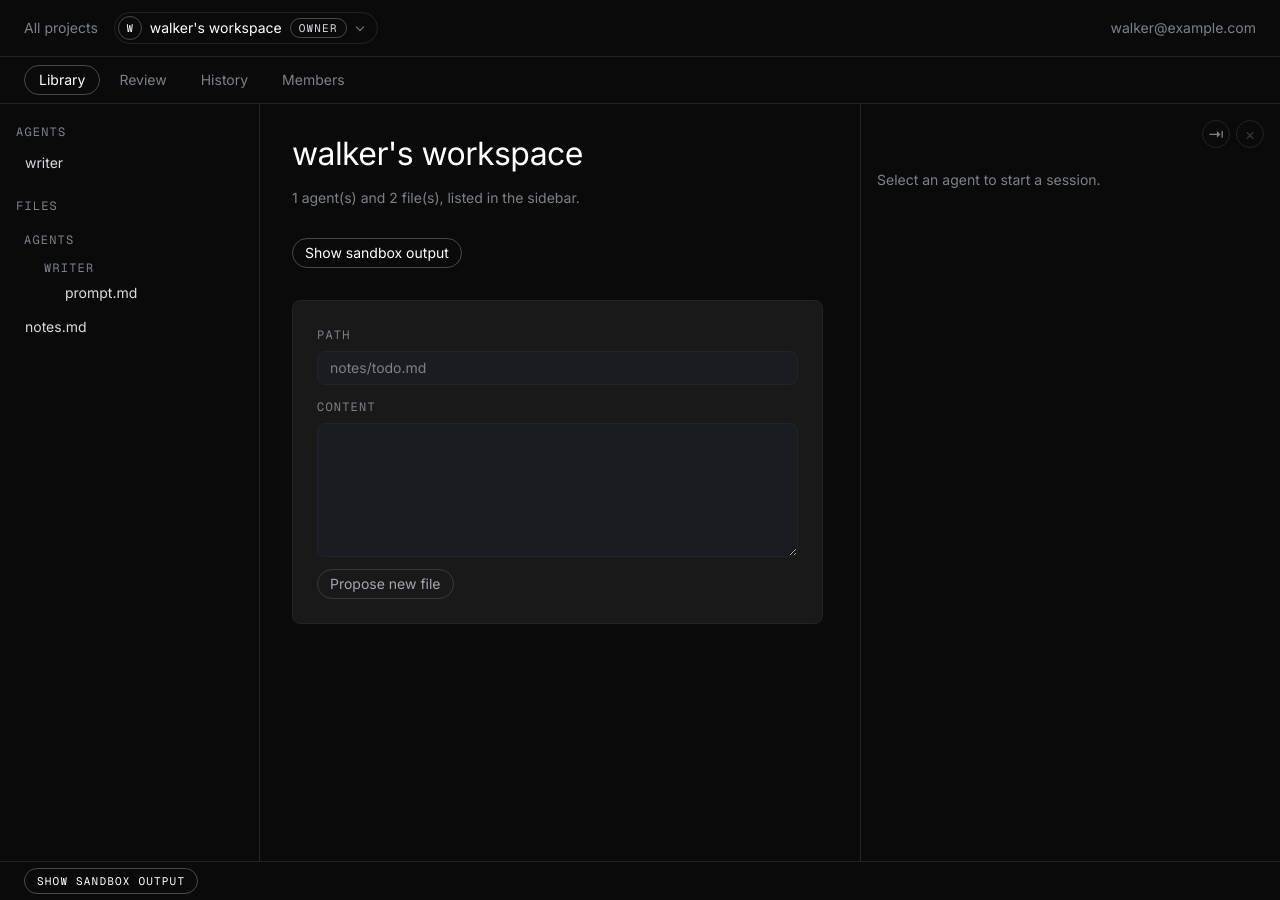
Test case: reading a file in the library › shows the open file in a closable tab, and closing it leaves the shell intact
Click the button "notes.md" at x=130, y=327, box [16,312,243,342]
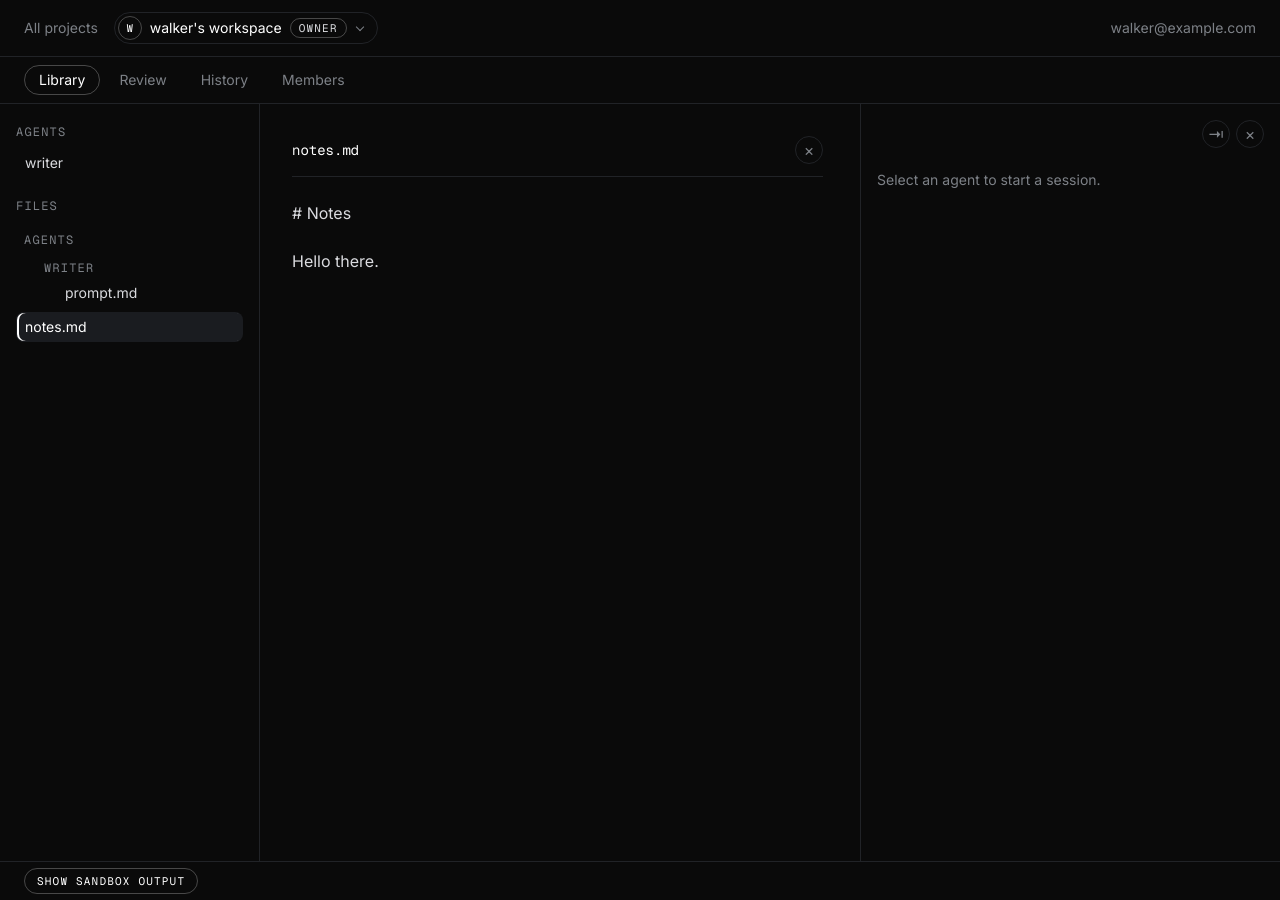
Now the text "# Notes Hello there." is shown, box [292,203,379,271]
Click the button named "Close notes.md" at x=809, y=150, box [795,136,823,164]
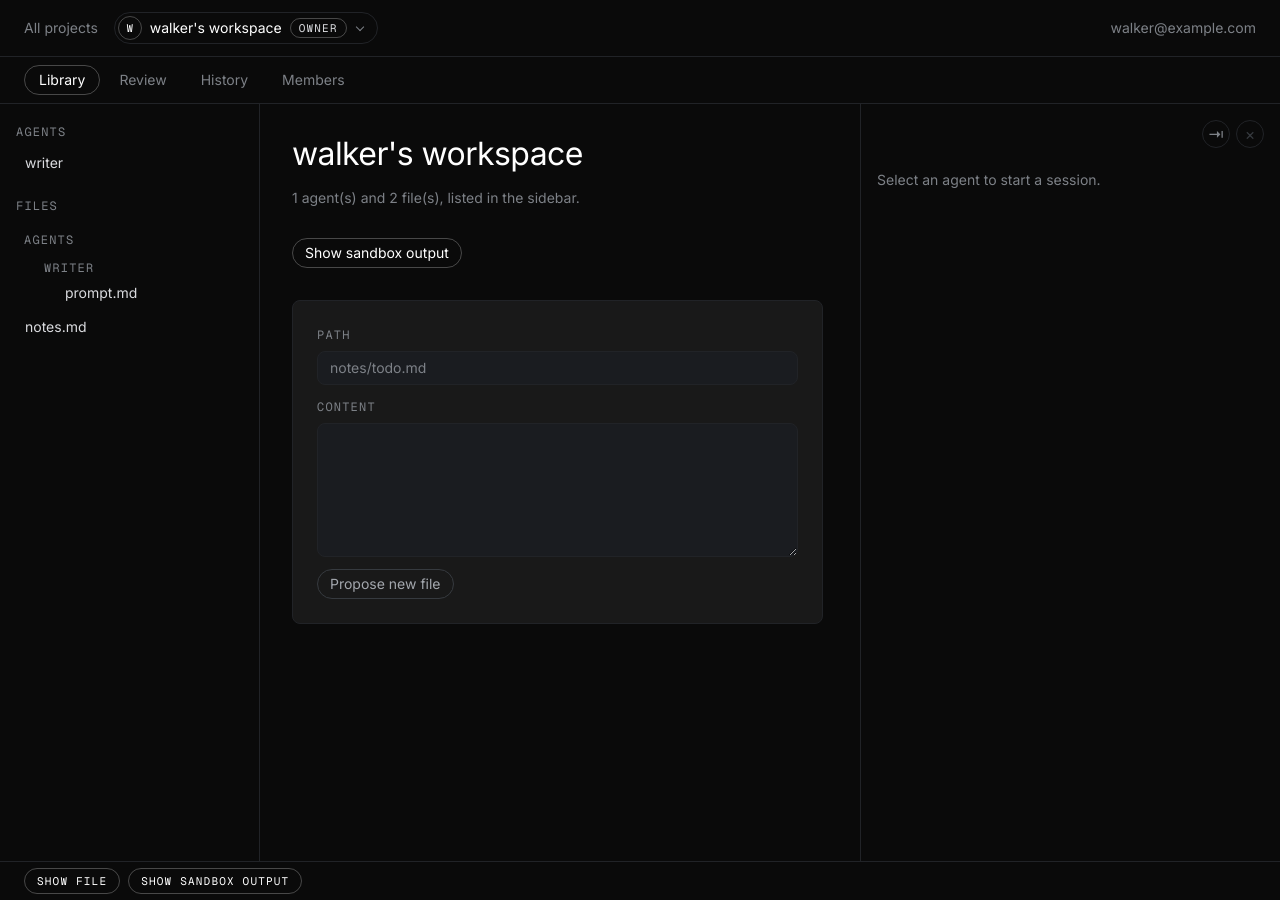
Expected: the button "notes.md" is shown, [16,312,243,342]
Now the text "# Notes" is gone
